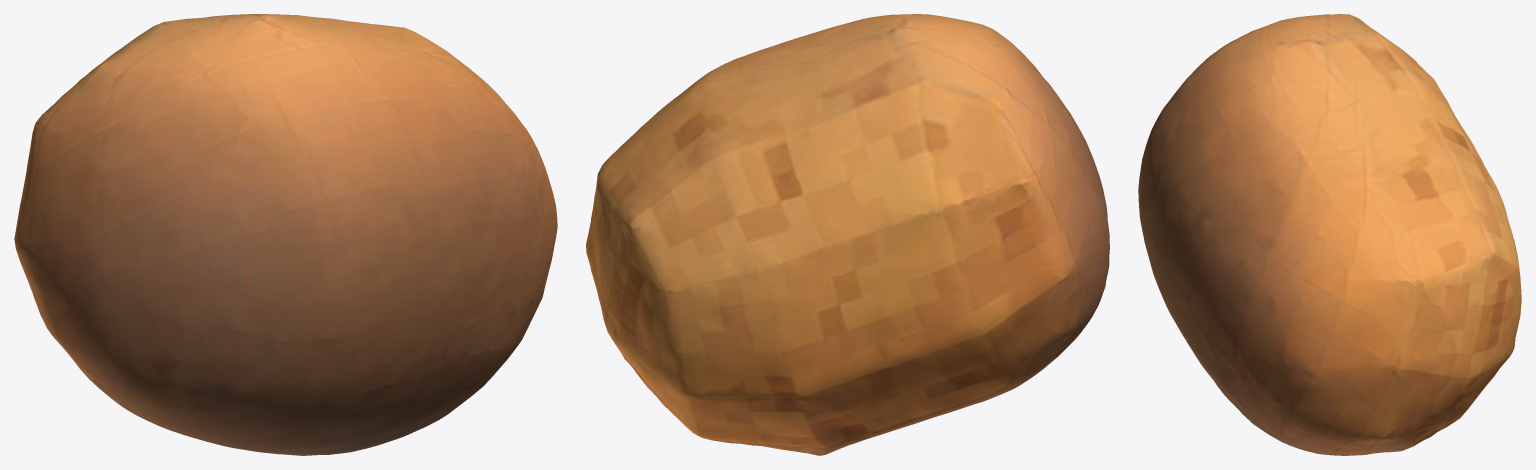
File: potato.glb
The picture shows the model from 3 angles, left to right: view 1: azimuth 30°, elevation 25°; view 2: azimuth 150°, elevation 25°; view 3: azimuth 270°, elevation 25°; orthographic projection. The views are drawn at different scales.
Visible parts, largest first — view 1: geometry_0; view 2: geometry_0; view 3: geometry_0.
Part boxes in pixels (x1,y1,x2,y2): geometry_0: [14, 14, 557, 455]; geometry_0: [586, 14, 1109, 455]; geometry_0: [1138, 14, 1521, 455].
Bounding box in the file's own units: 0.9207 × 0.776 × 0.7554.
1 material, 1 textured.
